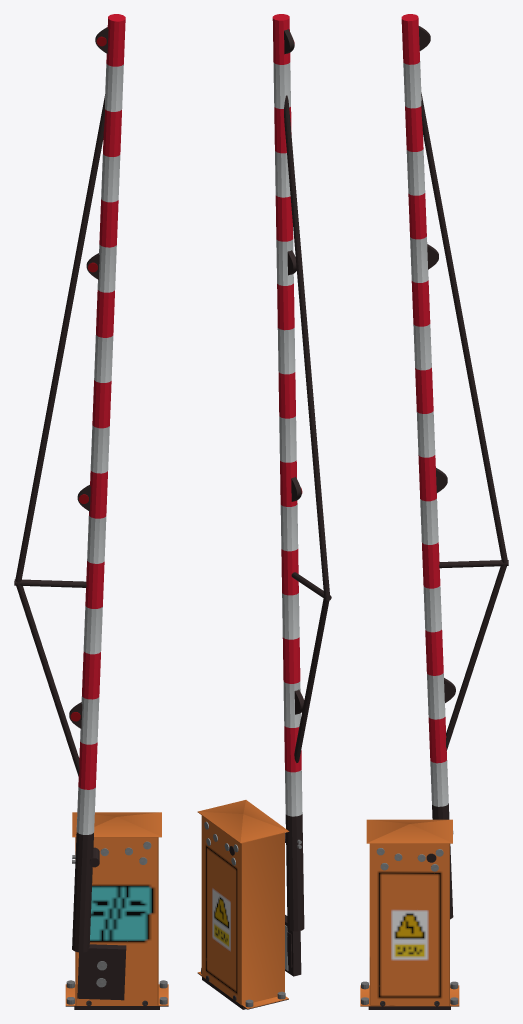
File: rhr-95_4m_prawo.obj
3 views of the same model, side by side, from view 1: azimuth 90°, elevation 25°; view 2: azimuth 210°, elevation 25°; view 3: azimuth 270°, elevation 25° (orthographic). The views are drawn at different scales.
Visible parts, largest first — view 1: drag, cuboid; view 2: drag, cuboid; view 3: drag, cuboid.
Boxes of the visible parts, x1,y1,x2,y2 form: drag: (14, 14, 126, 1000); cuboid: (65, 812, 168, 1009); drag: (229, 14, 331, 976); cuboid: (197, 800, 289, 1009); drag: (401, 14, 508, 919); cuboid: (360, 819, 459, 1009).
Size of the model in its own units: 0.4164 by 5.53 by 0.7717.
Materials: 1 (1 with a texture image).
